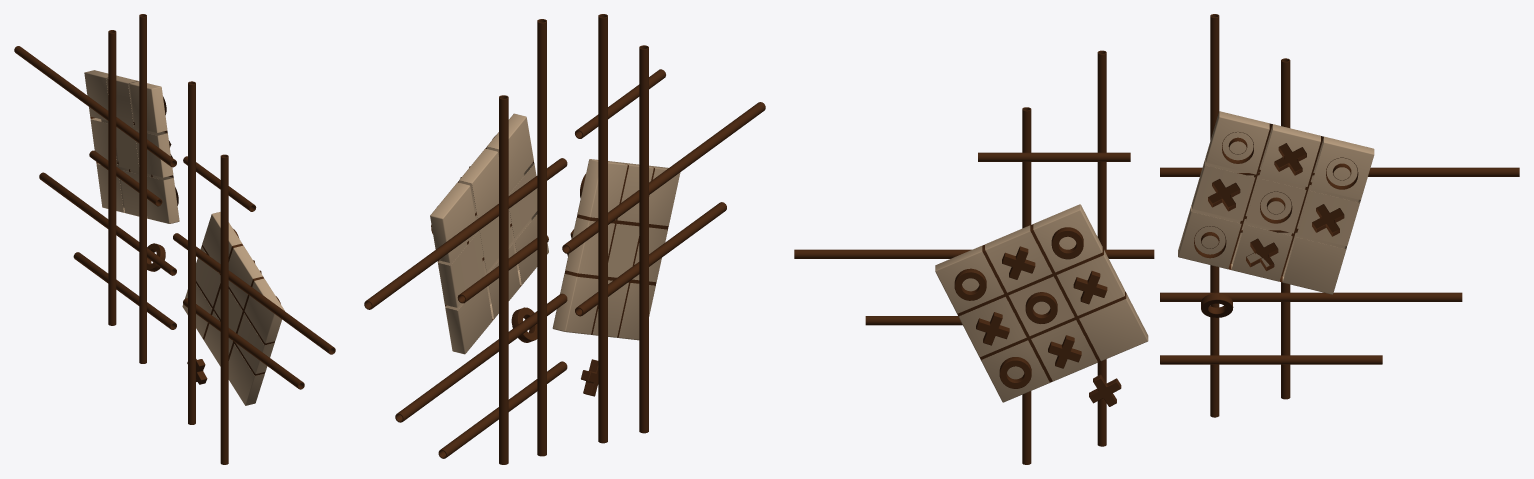
Rendered from WP_Tic_Tac_Toe.FBX.
3 views of the same model, side by side, from view 1: azimuth 30°, elevation 25°; view 2: azimuth 150°, elevation 25°; view 3: azimuth 270°, elevation 25° (orthographic). The views are drawn at different scales.
Visible parts, largest first — view 1: WP_Tic_Tac_Toe_Tubes, WP_Tic_Tac_Toe_Marble02, WP_Tic_Tac_Toe_Marble01; view 2: WP_Tic_Tac_Toe_Tubes, WP_Tic_Tac_Toe_Marble01, WP_Tic_Tac_Toe_Marble02, WP_Tic_Tac_Toe_XO_09, WP_Tic_Tac_Toe_XO1_09; view 3: WP_Tic_Tac_Toe_Marble01, WP_Tic_Tac_Toe_Marble02, WP_Tic_Tac_Toe_Tubes.
Boxes of the visible parts, x1,y1,x2,y2 form: WP_Tic_Tac_Toe_Tubes: (14, 14, 335, 464); WP_Tic_Tac_Toe_Marble02: (182, 212, 284, 405); WP_Tic_Tac_Toe_Marble01: (84, 70, 179, 223); WP_Tic_Tac_Toe_Tubes: (364, 14, 765, 464); WP_Tic_Tac_Toe_Marble01: (430, 113, 548, 354); WP_Tic_Tac_Toe_Marble02: (552, 159, 680, 340); WP_Tic_Tac_Toe_XO_09: (511, 307, 537, 342); WP_Tic_Tac_Toe_XO1_09: (581, 359, 598, 396); WP_Tic_Tac_Toe_Marble01: (1178, 111, 1374, 294); WP_Tic_Tac_Toe_Marble02: (935, 204, 1148, 402); WP_Tic_Tac_Toe_Tubes: (794, 14, 1519, 464).
Size of the model in its own units: 57.68 by 700 by 1028.
